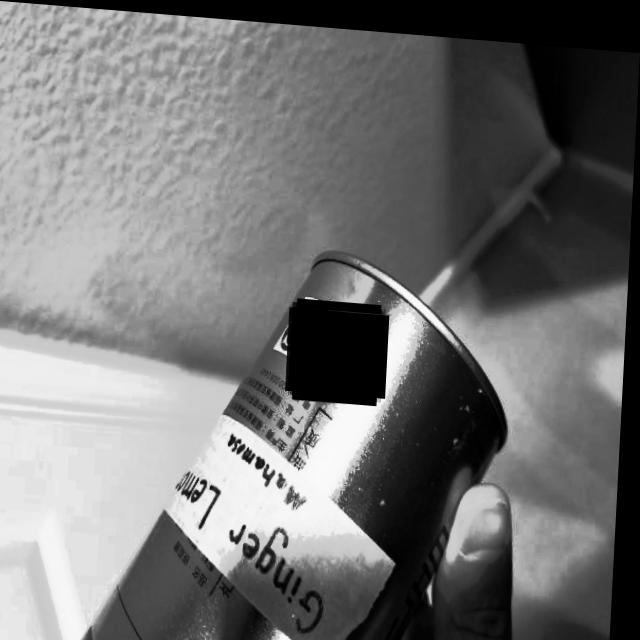qr_code: (292, 296, 389, 395)
